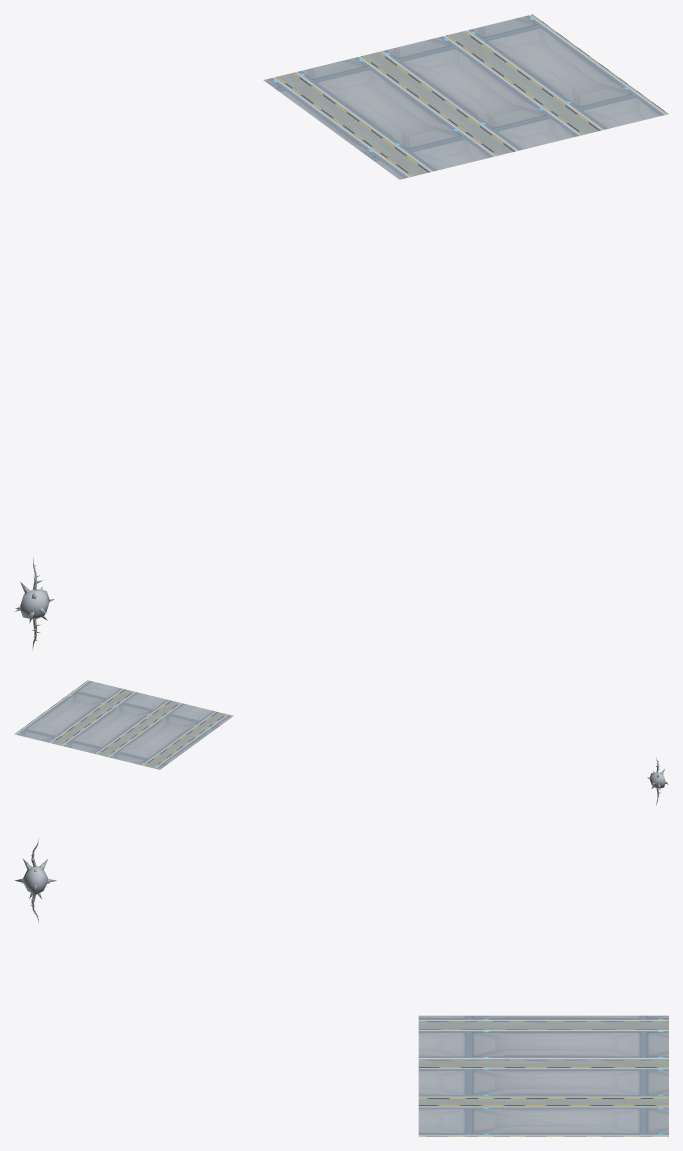
The model's file is Combined_Mesh_root_scene__16_1995fef1__ZombiesII_laboratory_05_d_57b6b985_c1f257.obj.
3 views of the same model, one above another, from view 1: azimuth 30°, elevation 25°; view 2: azimuth 150°, elevation 25°; view 3: azimuth 270°, elevation 25° (orthographic). The views are drawn at different scales.
Size of the model in its own units: 33.2 by 6.65 by 23.77.
2 materials, 2 textured.
